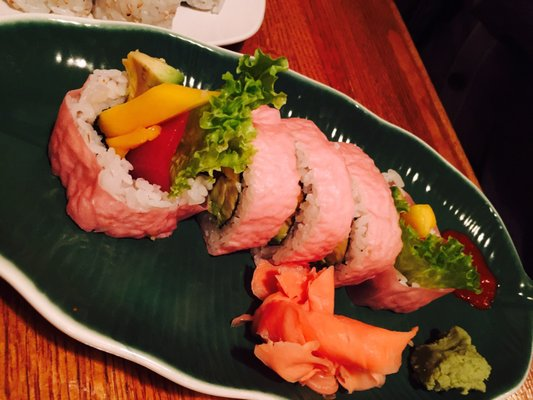sushi: (61, 68, 533, 400), (218, 68, 533, 400)
